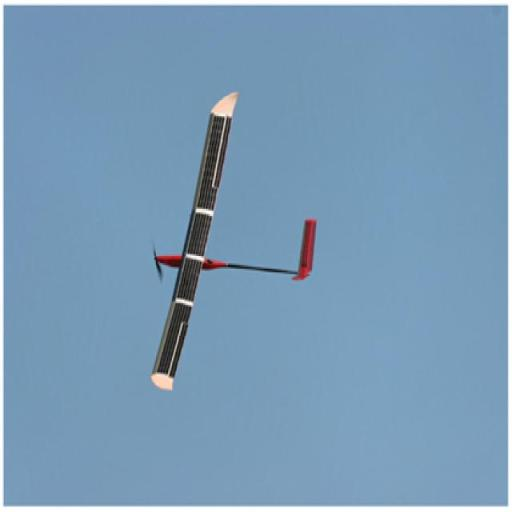uav: (152, 86, 314, 392)
